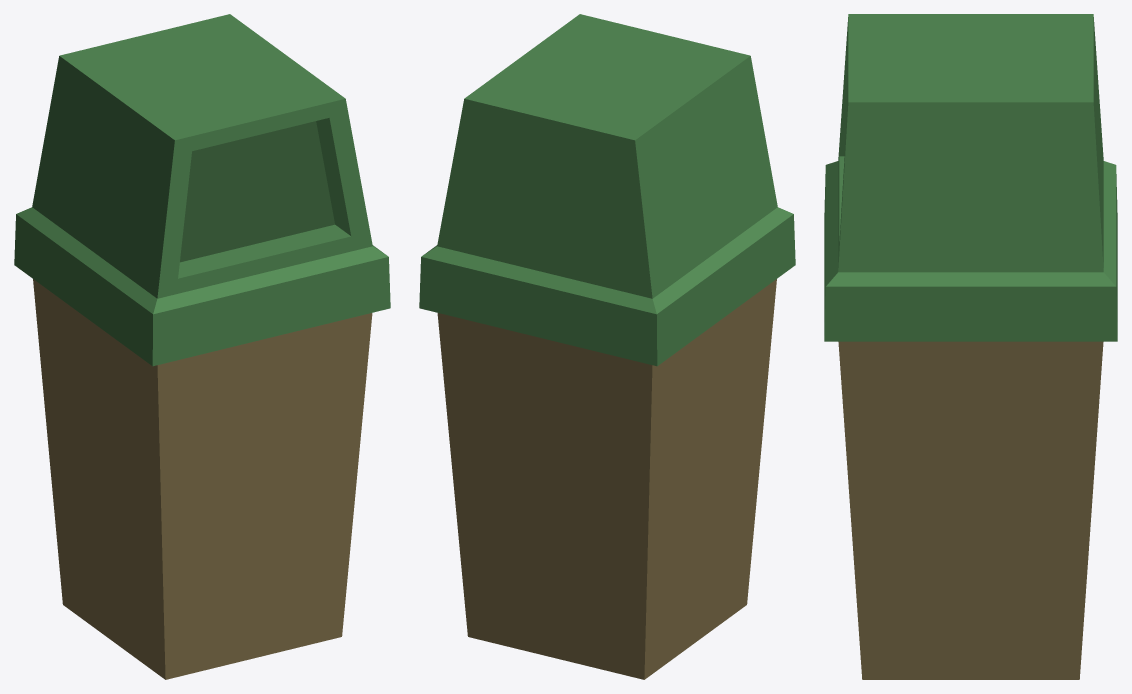
File: scene_bin.fbx
The picture shows the model from 3 angles, left to right: view 1: azimuth 30°, elevation 25°; view 2: azimuth 150°, elevation 25°; view 3: azimuth 270°, elevation 25°; orthographic projection. The views are drawn at different scales.
Visible parts, largest first — view 1: mesh_bin; view 2: mesh_bin; view 3: mesh_bin.
Part boxes in pixels (x1,y1,x2,y2): mesh_bin: (14, 14, 390, 679); mesh_bin: (419, 14, 795, 679); mesh_bin: (824, 14, 1117, 679).
Size of the model in its own units: 0.5178 by 1.13 by 0.5215.
